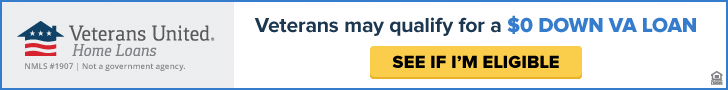fake_button: (362, 41, 585, 90)
